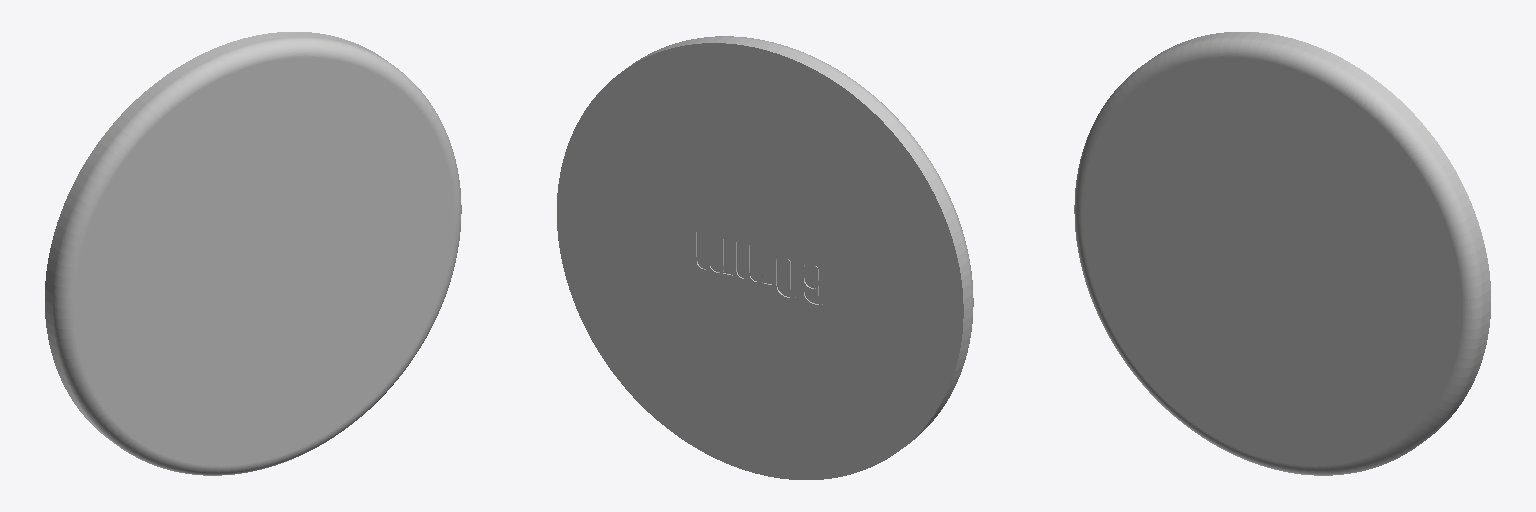
3 renders of one model, left to right at view 1: azimuth 30°, elevation 25°; view 2: azimuth 150°, elevation 25°; view 3: azimuth 330°, elevation 25°, orthographic.
Visible parts, largest first — view 1: base_60; view 2: base_60; view 3: base_60.
Part boxes in pixels (left/top/right/bottom): base_60: left=45, top=32, right=461, bottom=475; base_60: left=557, top=36, right=973, bottom=479; base_60: left=1074, top=32, right=1490, bottom=475.
Bounding box in the file's own units: 60 × 59.98 × 4.